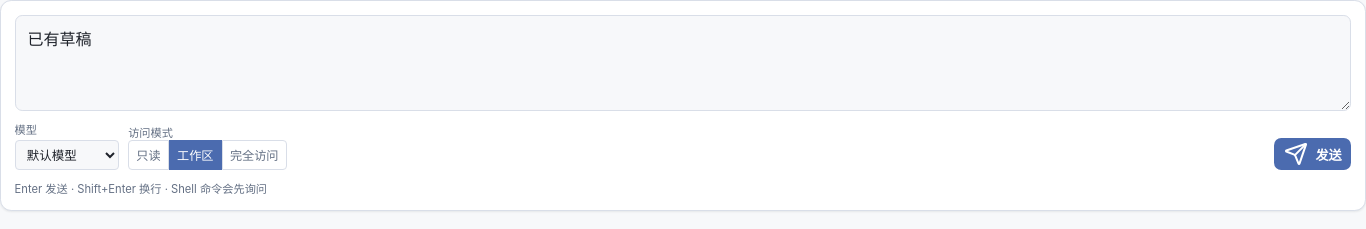
Test: Composer › supports parent-owned draft text
Type "继续" into the text box named "消息" at (683, 63), box [15,15,1351,111]
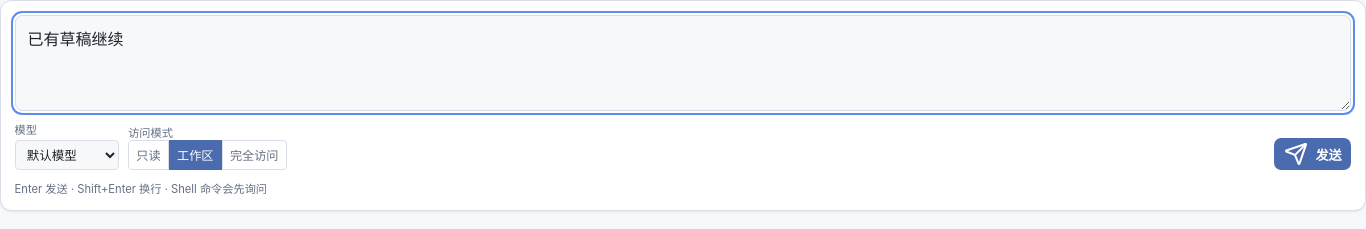
Expected: the text box named "消息" holds "已有草稿继续", [15,15,1351,111]
